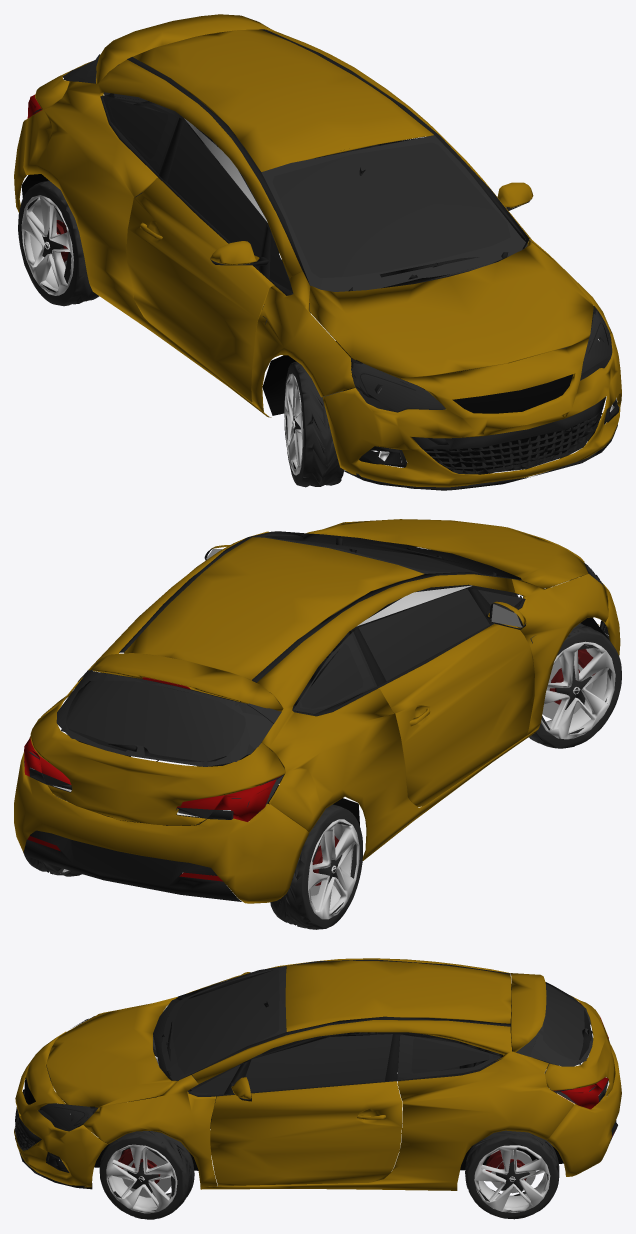
The model's file is car-lite.glb.
The picture shows the model from 3 angles, top to bottom: view 1: azimuth 30°, elevation 25°; view 2: azimuth 150°, elevation 25°; view 3: azimuth 270°, elevation 25°; orthographic projection. The views are drawn at different scales.
Parts seen in each view (by area): view 1: body, wheel-RR, wheel-FR; view 2: body, wheel-FR, wheel-RR; view 3: body, wheel-FL, wheel-RL.
Boxes of the visible parts, bbox=[...] form: body: bbox=[14, 14, 621, 490]; wheel-RR: bbox=[18, 180, 99, 306]; wheel-FR: bbox=[284, 361, 343, 487]; body: bbox=[14, 519, 620, 903]; wheel-FR: bbox=[528, 623, 621, 748]; wheel-RR: bbox=[270, 804, 362, 929]; body: bbox=[14, 958, 621, 1190]; wheel-FL: bbox=[99, 1131, 194, 1219]; wheel-RL: bbox=[465, 1130, 559, 1219].
Size of the model in its own units: 2.01 by 1.5 by 4.45.
